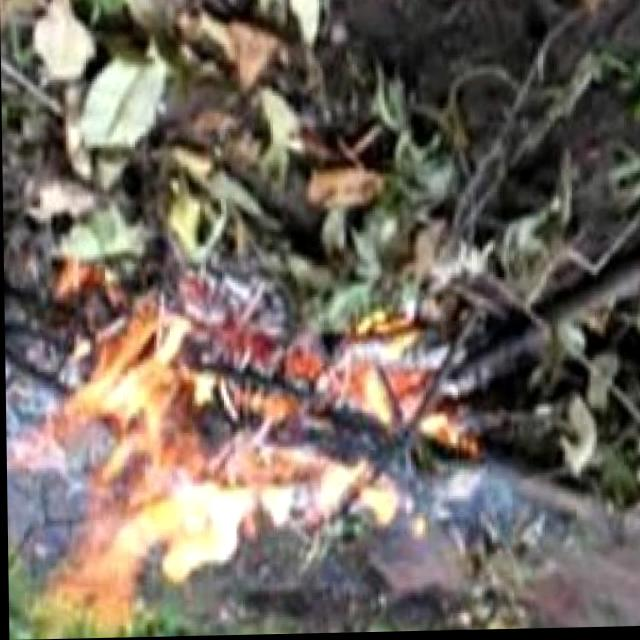fire: (18, 318, 466, 624)
